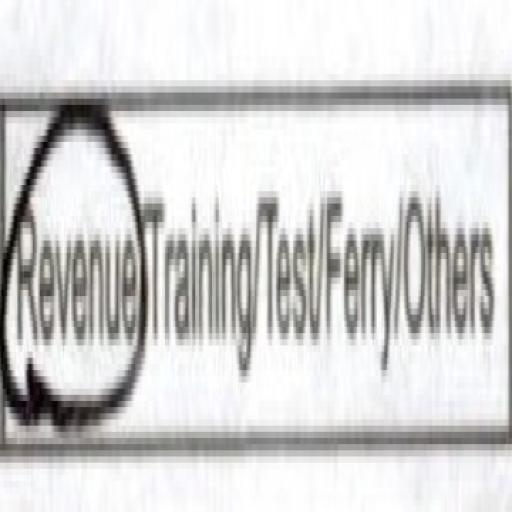check: (0, 9, 144, 512)
